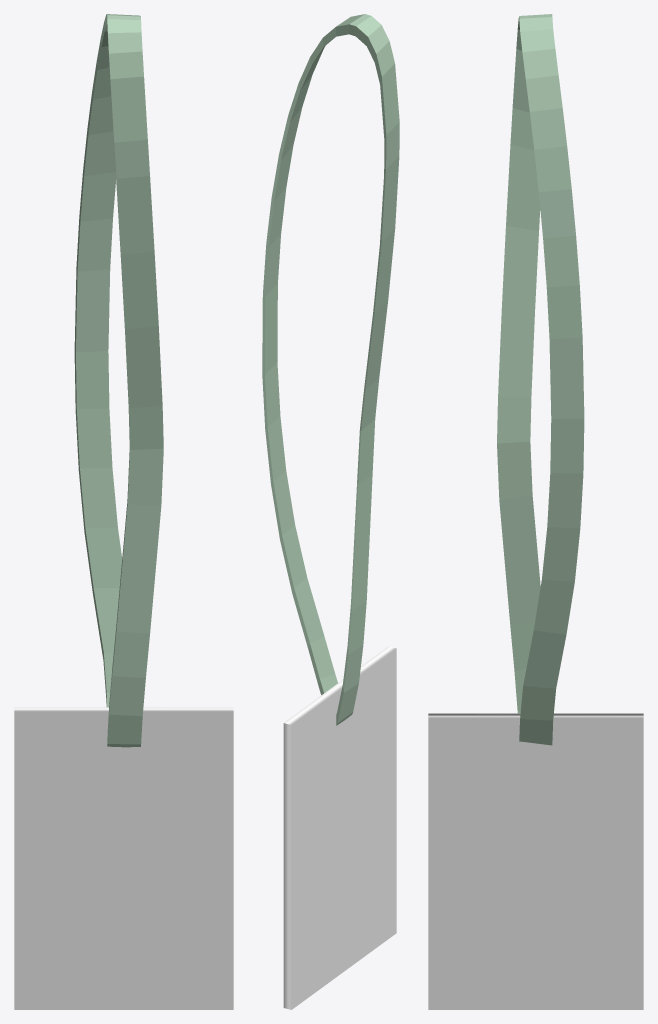
Rendered from SM_ID_Card.fbx.
3 renders of one model, left to right at view 1: azimuth 90°, elevation 25°; view 2: azimuth 150°, elevation 25°; view 3: azimuth 270°, elevation 25°, orthographic. The views are drawn at different scales.
Parts seen in each view (by area): view 1: SM_ID_Card; view 2: SM_ID_Card; view 3: SM_ID_Card.
Boxes of the visible parts, left/top/right/bottom form: SM_ID_Card: left=14, top=14, right=233, bottom=1009; SM_ID_Card: left=262, top=14, right=399, bottom=1009; SM_ID_Card: left=428, top=14, right=643, bottom=1009.
Bounding box in the file's own units: 5.16 × 8.79 × 44.24.
1 material, 1 textured.
